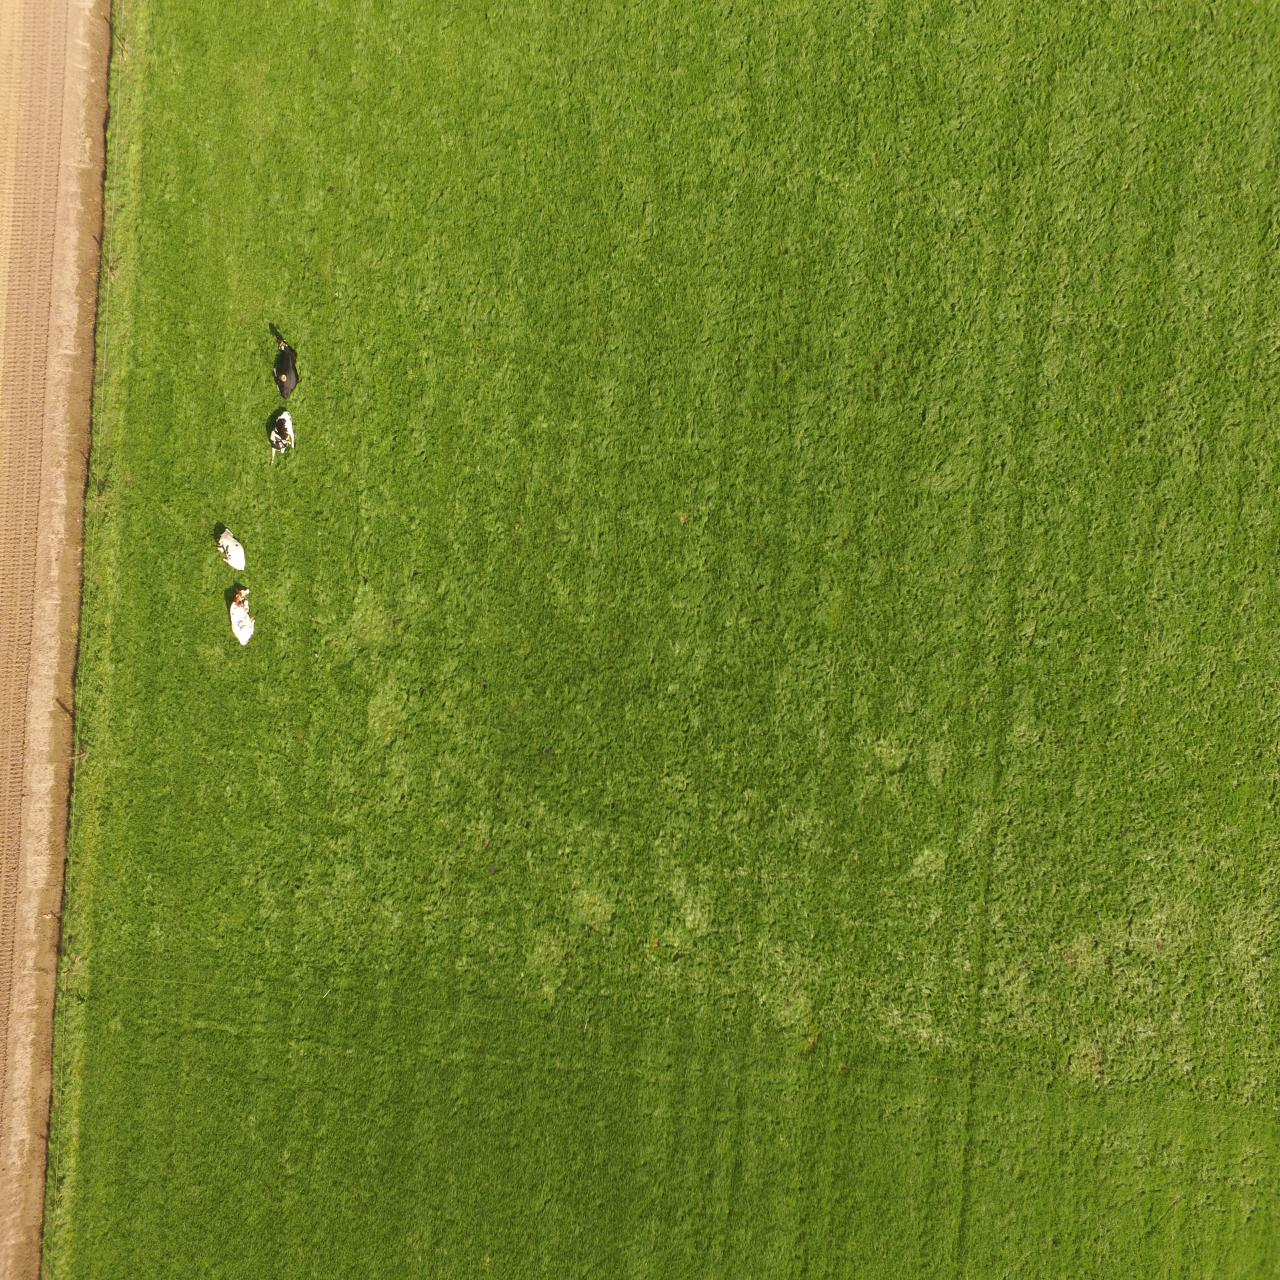cow: (229, 585, 256, 645), (273, 336, 298, 400), (213, 526, 246, 572), (270, 409, 294, 465)
